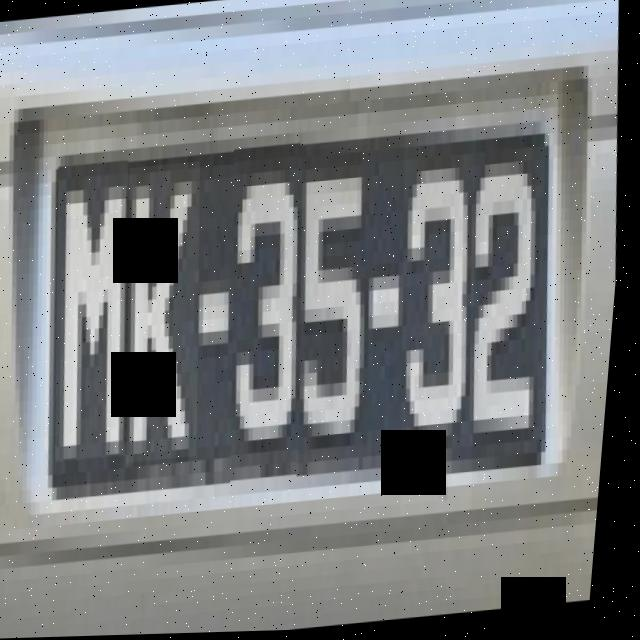3: (382, 127, 505, 519), (215, 144, 326, 488)
5: (285, 145, 394, 457)
K: (114, 162, 223, 464)
M: (42, 160, 153, 464)
